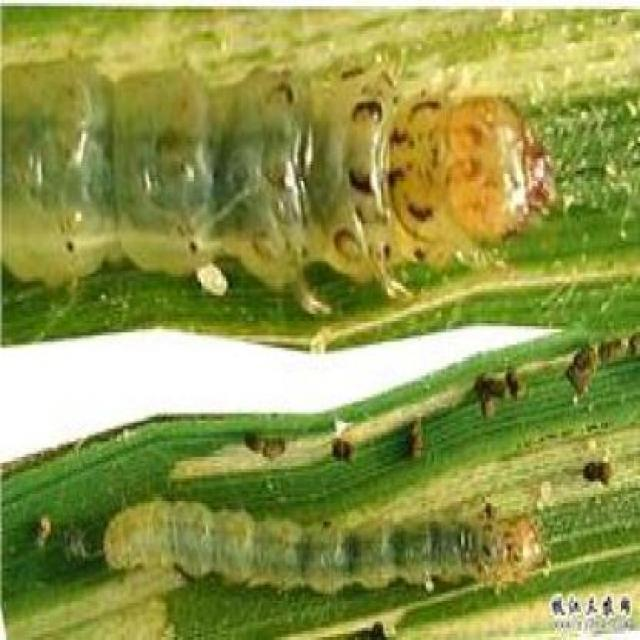leaf-folder: (0, 43, 555, 323), (90, 476, 564, 610)
